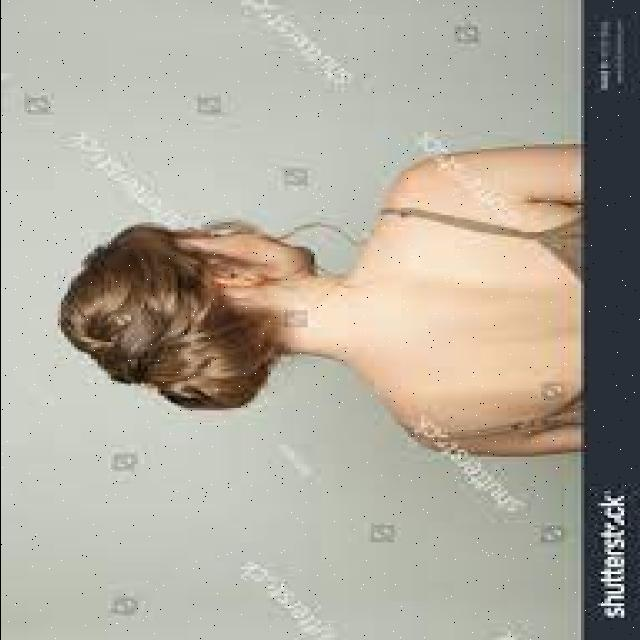Non_Helmet: (44, 200, 331, 442)
